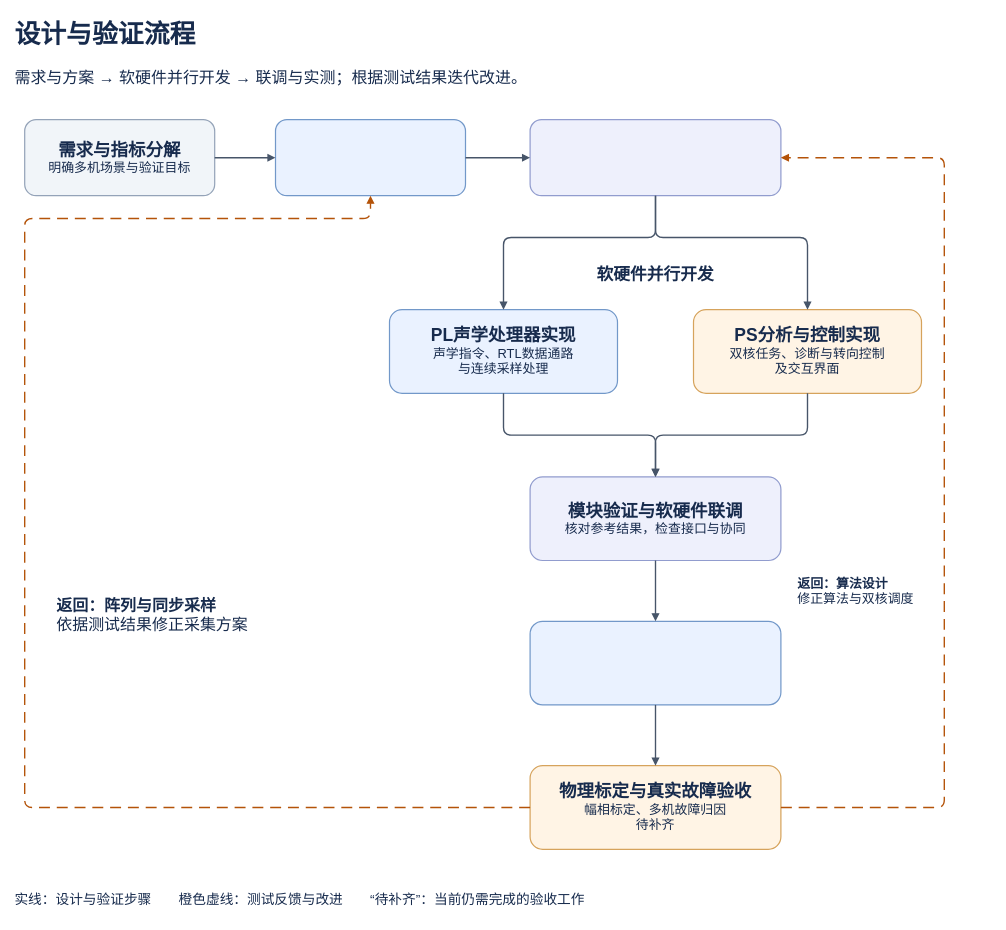
Some shapes in this 1006 by 930 pixel diagram are drawn without their labels. The box of each missing label's shape, as (x1, y1, x2, y2) in pixels:
时序检查与实板采集 检查实现时序与真实采集链路: (529, 620, 781, 705)
算法参考与定点设计 定位、分离、诊断与数值规则: (529, 119, 781, 196)
阵列与同步采样 确定九麦布局和采集方案: (275, 119, 466, 196)
